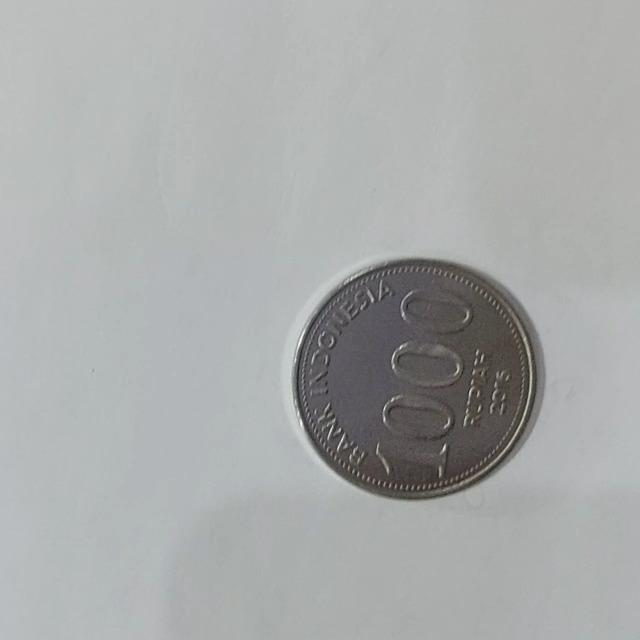Rp100: (289, 255, 541, 500)
